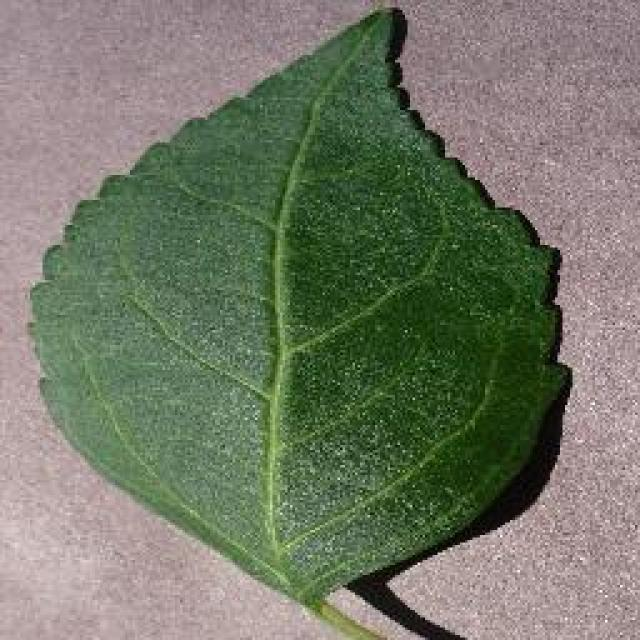Cherry___healthy: (12, 2, 582, 640)
